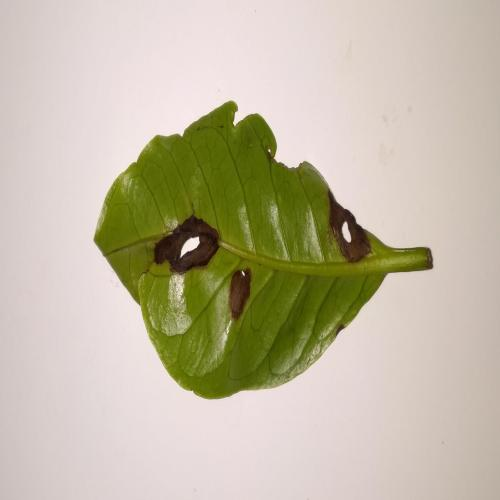miner: (328, 190, 370, 263)
